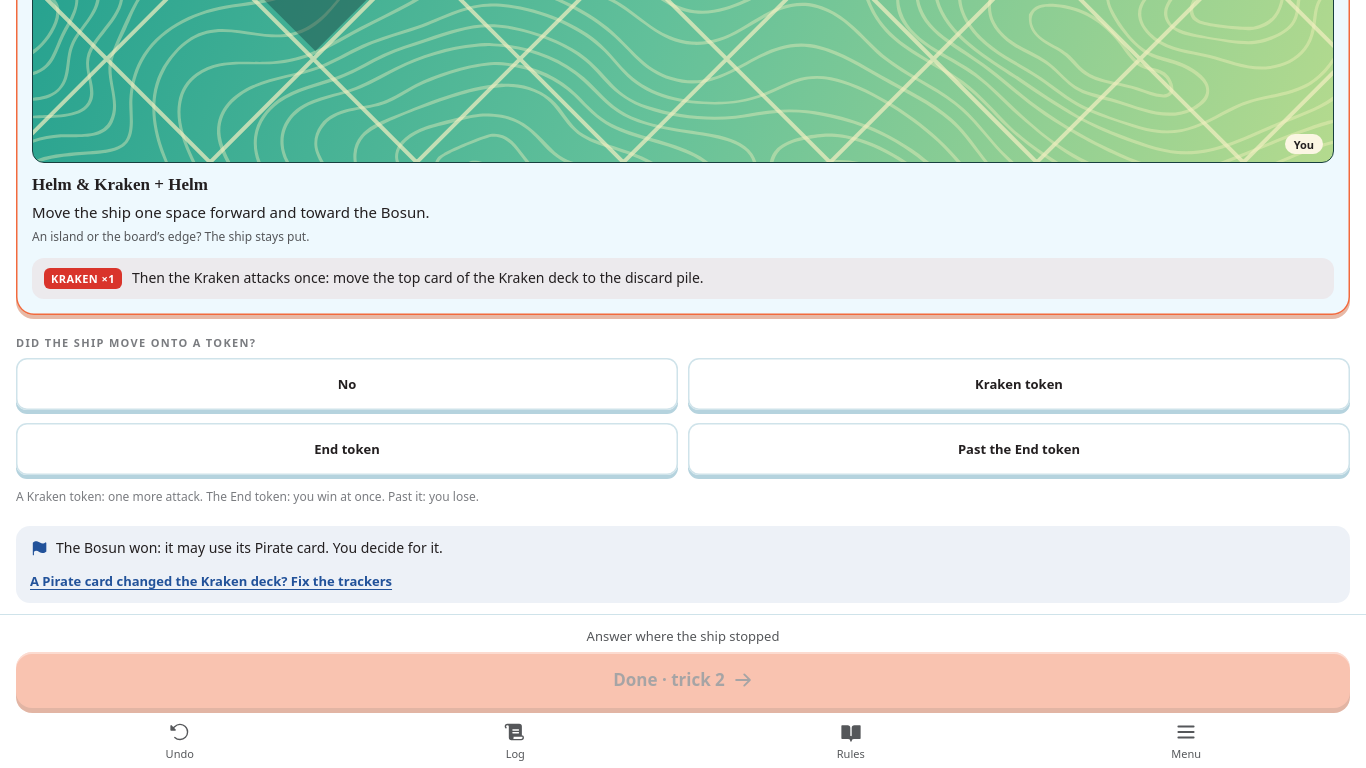
Test: the order (C5) › shows the move toward the winner and the attack, asks the token, then commits
(page scrolled)
Check: the text "KRAKEN ×1" is shown, box left=44, top=268, right=122, bottom=289
Check: the button "Done · trick 2" is disabled, box left=16, top=652, right=1350, bottom=708
# Each answer is an event, and each event shows the step afresh: find the group again.
Click the button "Kraken token" at (1019, 384), box left=688, top=358, right=1350, bottom=410
(page scrolled)
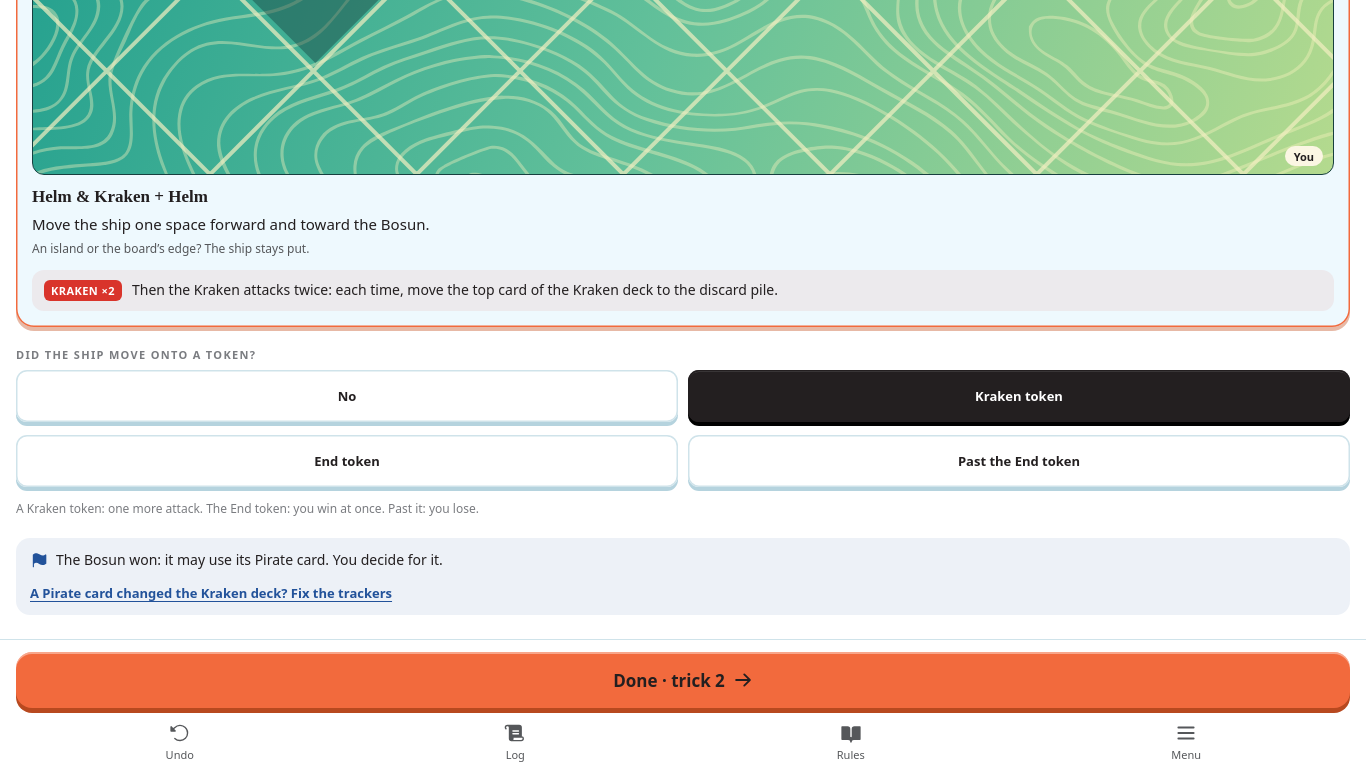
Check: the text "KRAKEN ×2" is shown, box left=44, top=280, right=122, bottom=301
Click the button "No" at (347, 396), box left=16, top=370, right=678, bottom=422
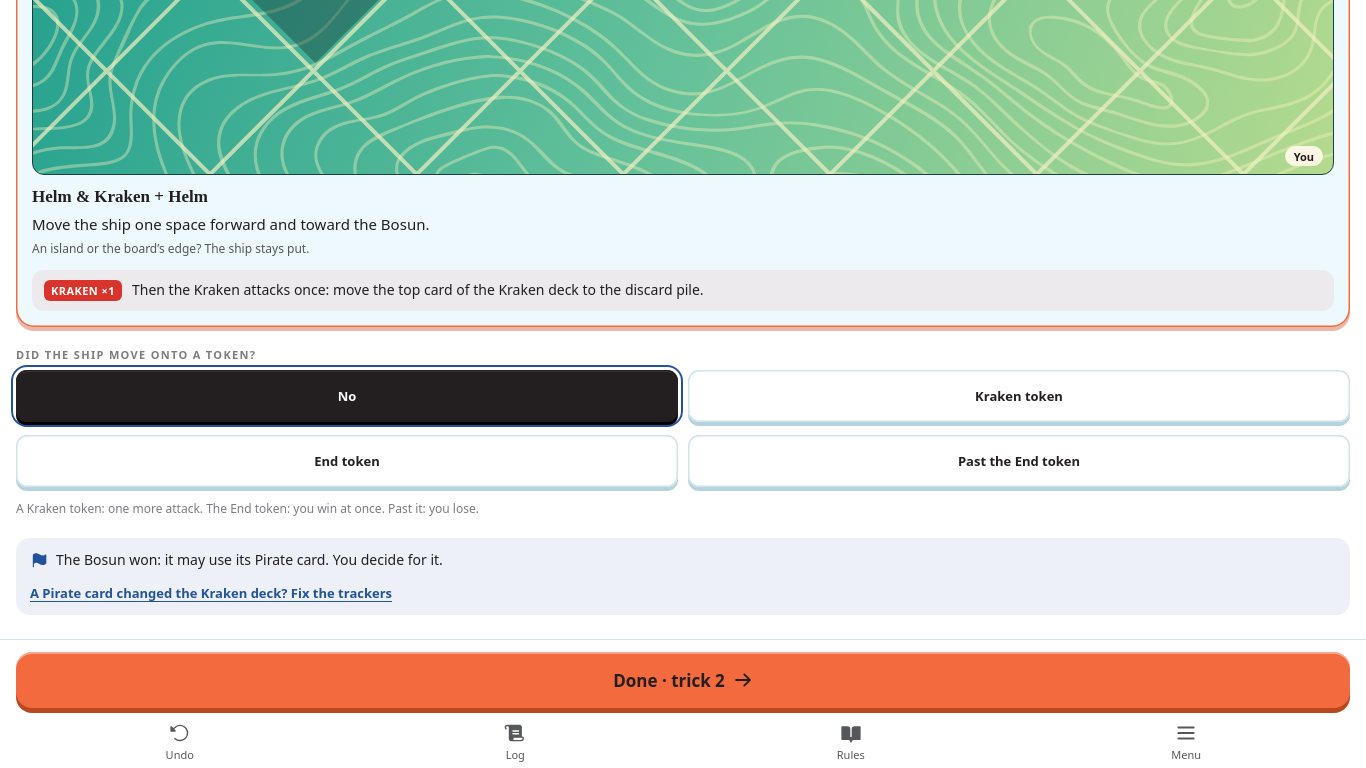
Check: the text "KRAKEN ×1" is shown, box left=44, top=280, right=122, bottom=301
Click the button "Done · trick 2" at (683, 680), box left=16, top=652, right=1350, bottom=708
(page scrolled)
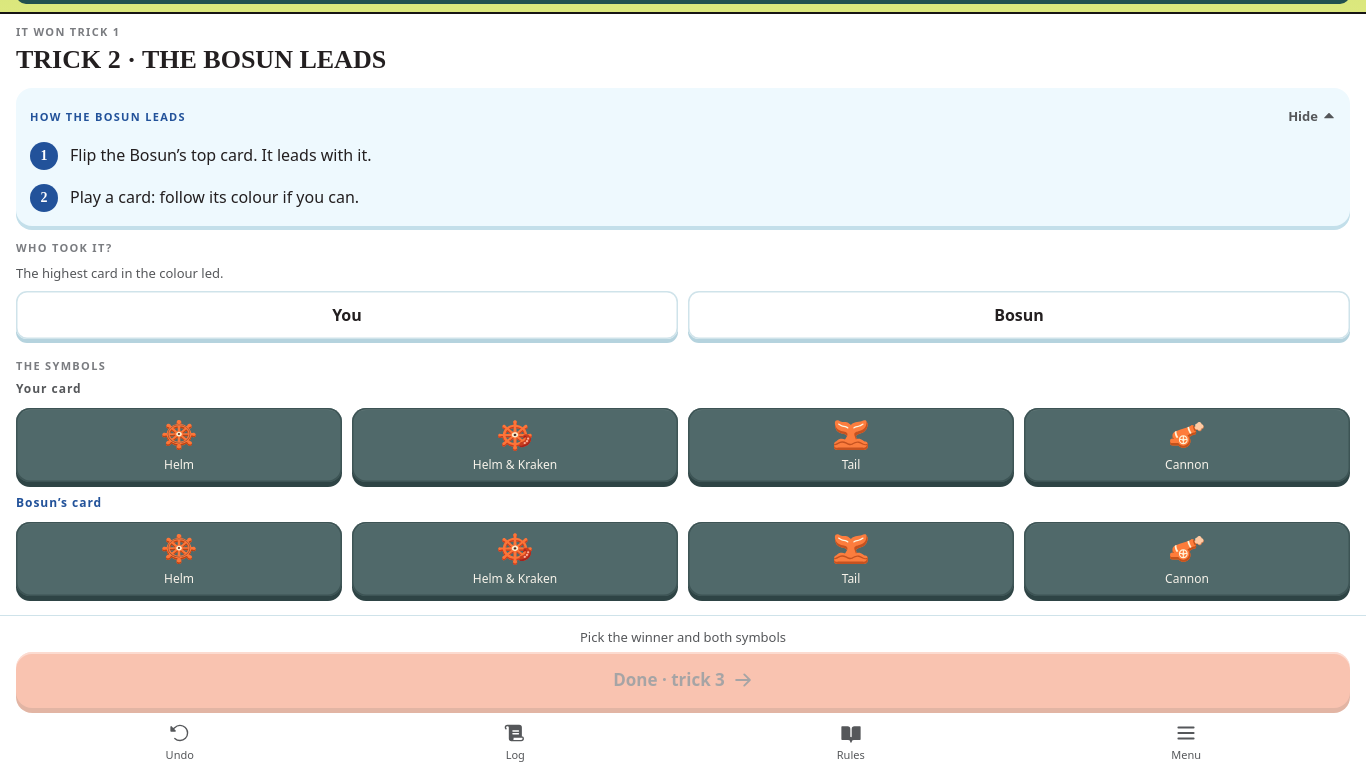
Check: the heading "TRICK 2 · THE BOSUN LEADS" is shown, box left=16, top=45, right=386, bottom=74
